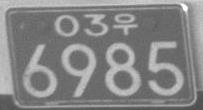0: (53, 13, 79, 37)
3: (83, 13, 109, 37)
5: (147, 40, 184, 97)
6: (20, 43, 58, 98)
8: (104, 41, 141, 98)
9: (60, 42, 96, 98)
우: (112, 12, 137, 35)
